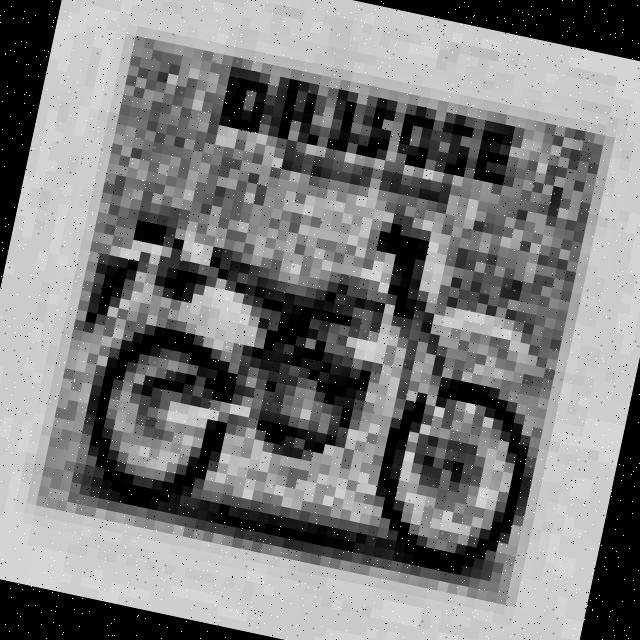mopeds: (36, 148, 588, 596)
